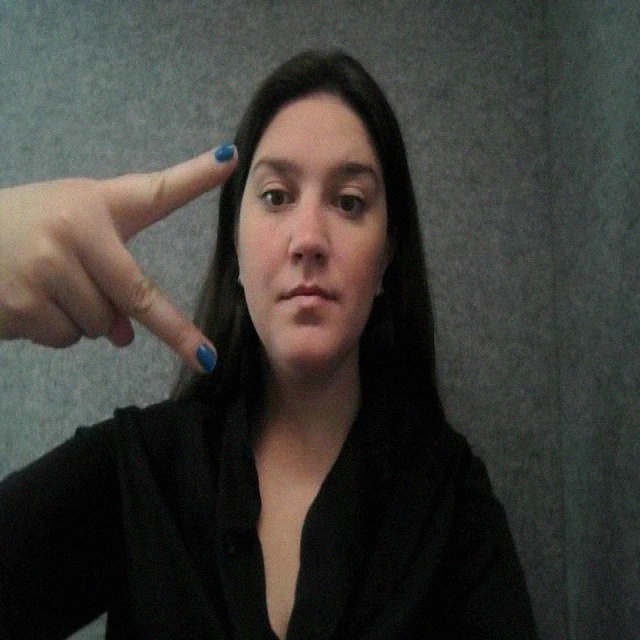Scissors: (7, 138, 251, 391)
